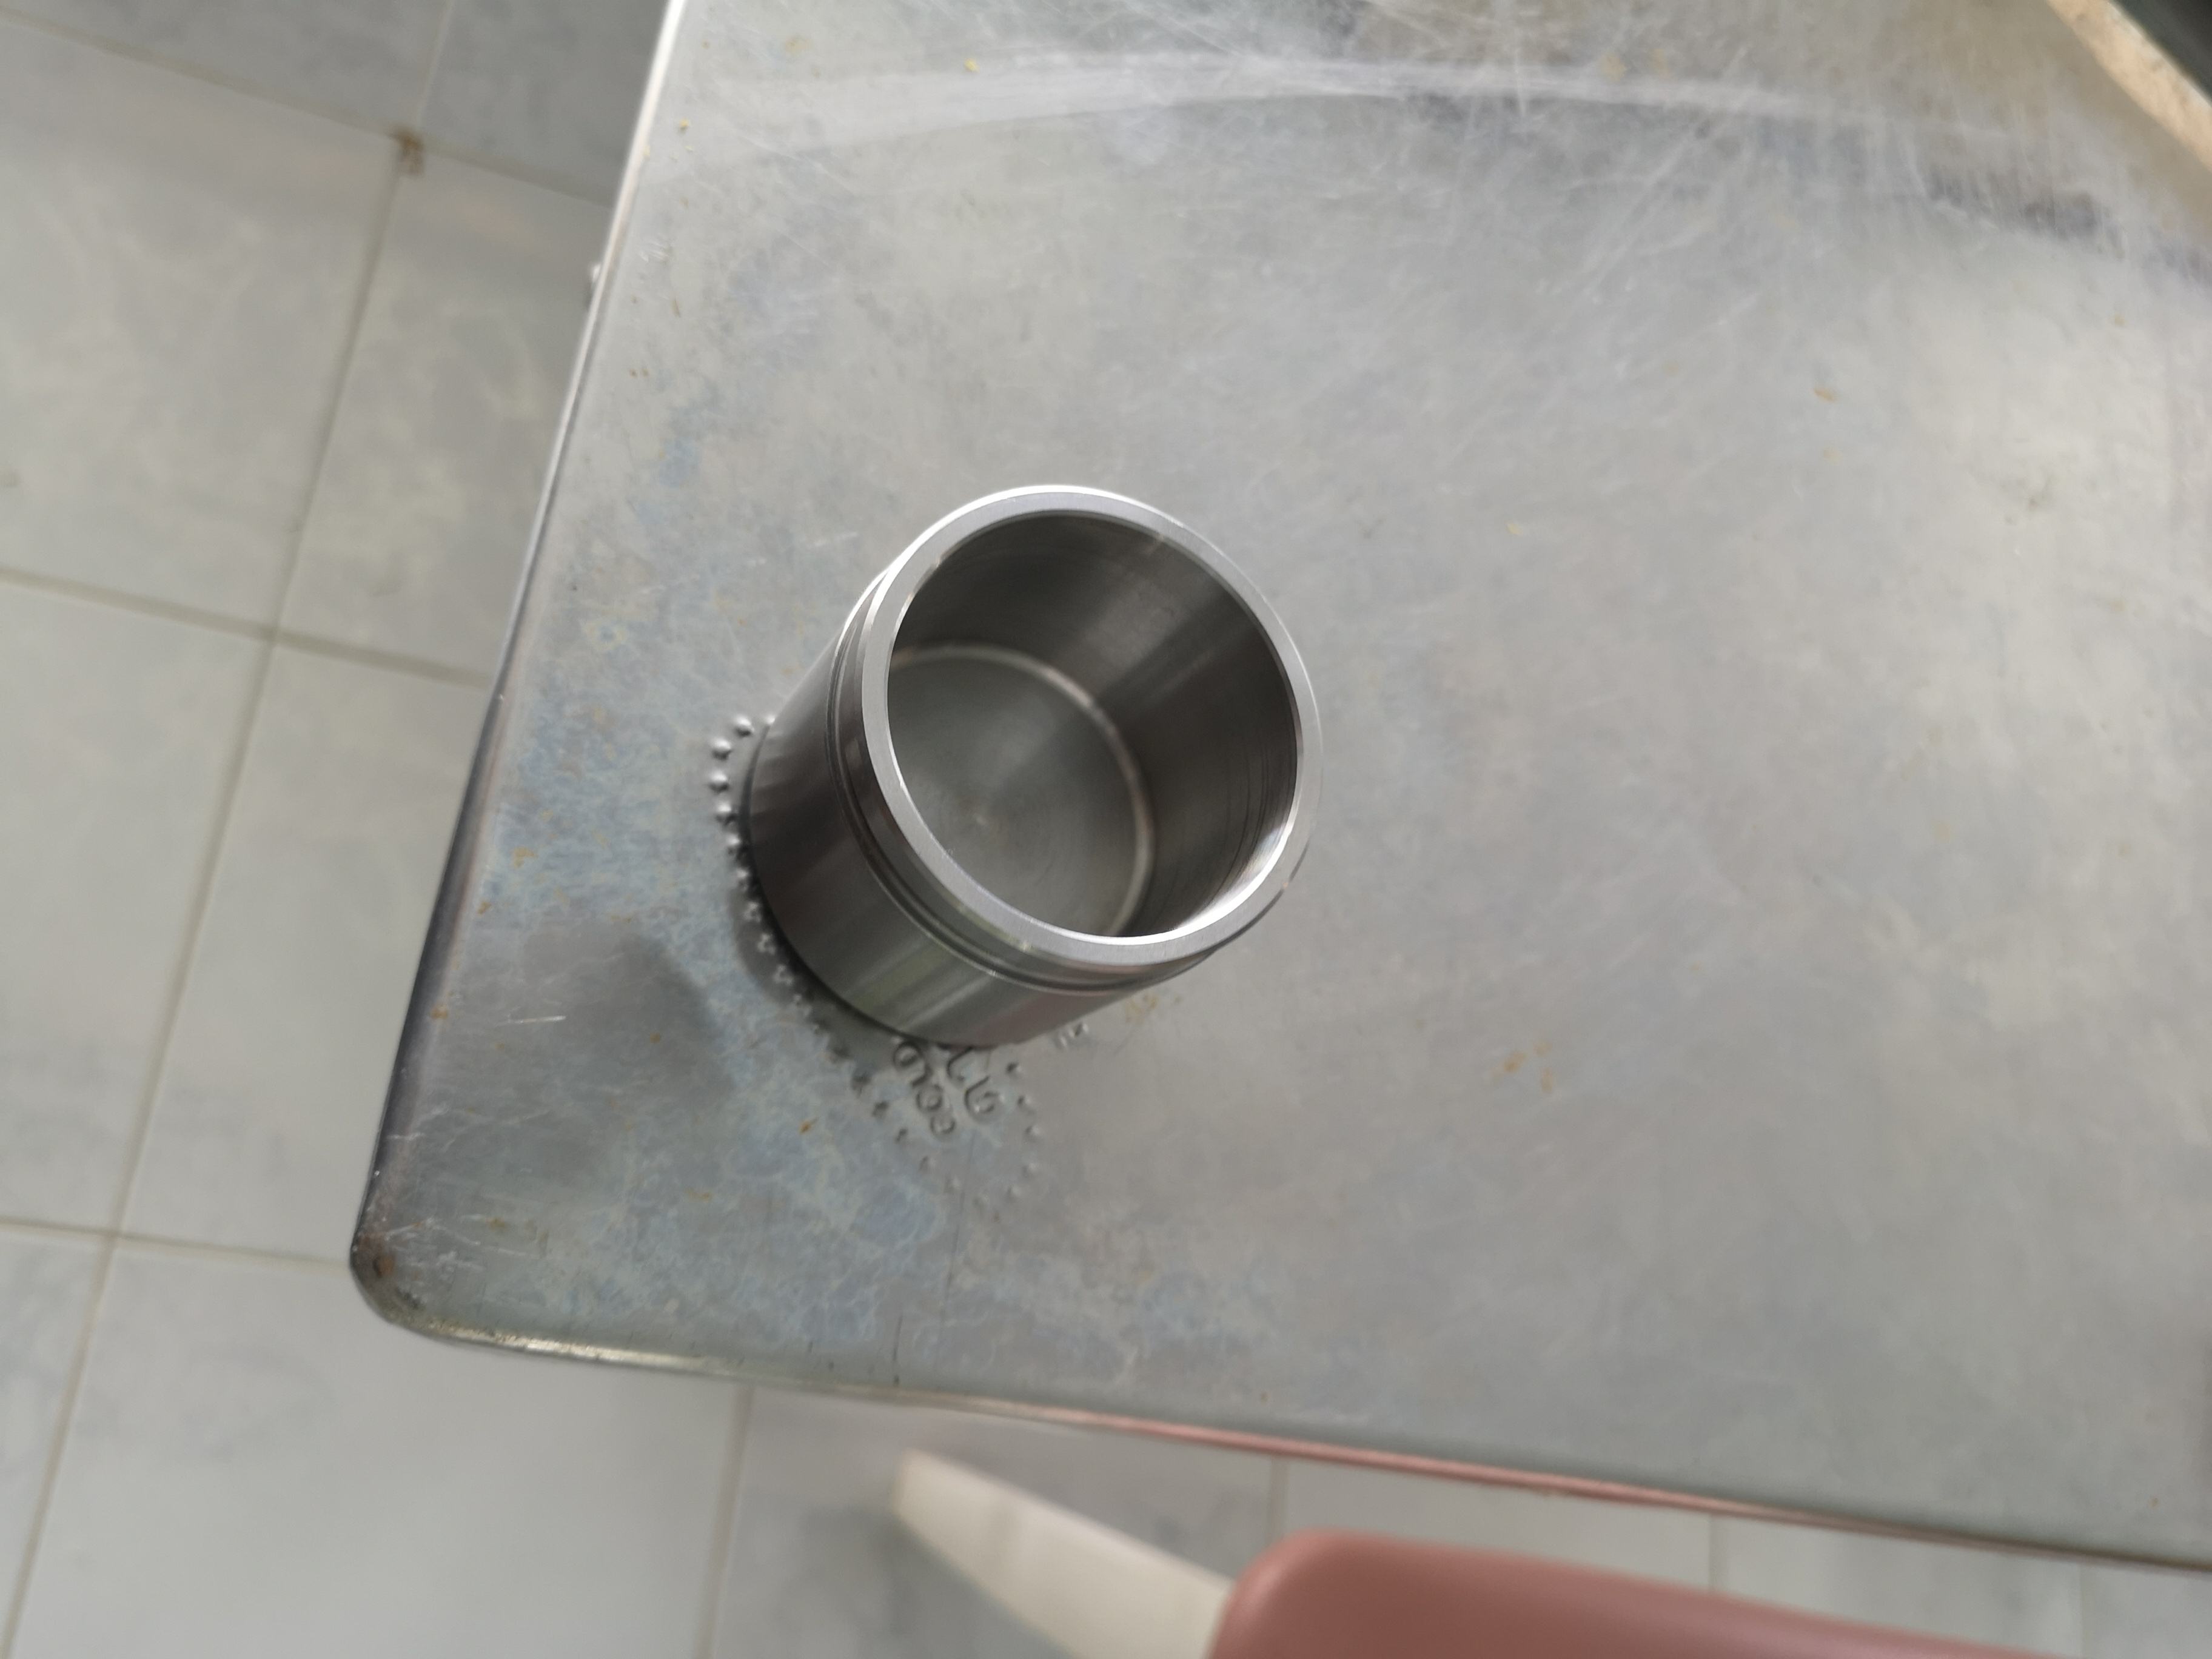ลูกสูบดิสเบรค: (716, 455, 1379, 1117)
